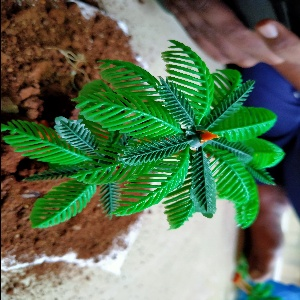plant: (1, 44, 279, 235)
